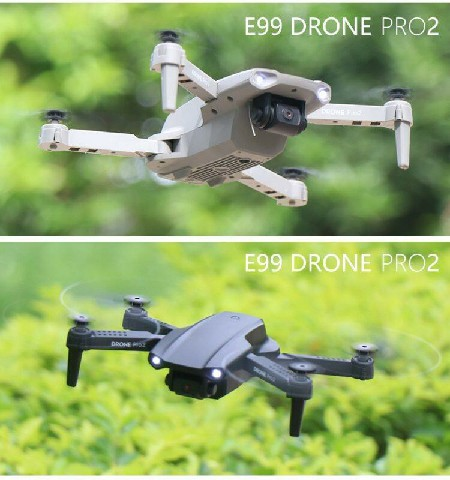maybay_khongnguoilai: (19, 26, 417, 211), (52, 273, 438, 434)
